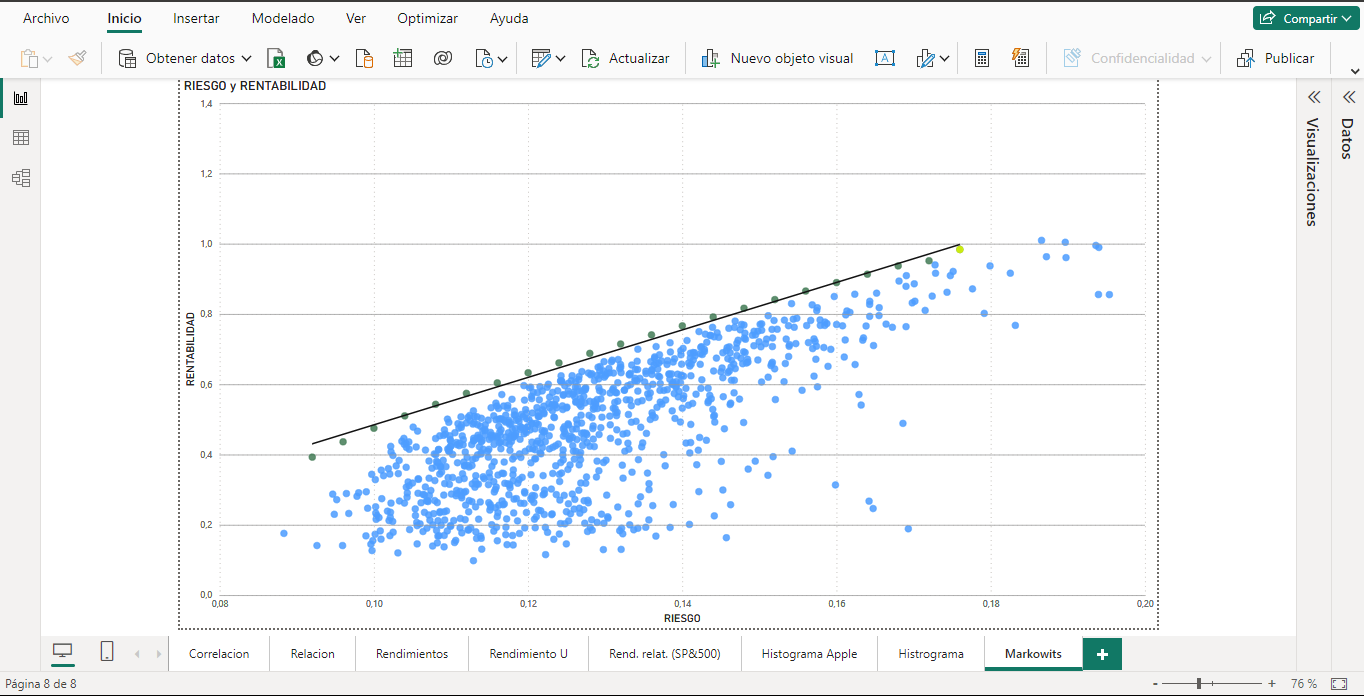

What the dashboard file says about the page in this screenshot:
{"tool":"powerbi","page":{"name":"Markowits","canvas":[1280,720],"ordinal":7},"visuals":[{"type":"scatterChart","fields":{"X":["Portafolios.RIESGO"],"Y":["Portafolios.RENTABILIDAD"]},"box":[0,0,1280.3,720],"z":0},{"type":"scatterChart","fields":{"X":["P  Eficientes.RIESGO"],"Y":["P  Eficientes.RENTABILIDAD"]},"box":[0,0,1280.2,720],"z":1000}]}

Visuals, with their boxes on the page's 1280x720 design canvas (x1, y1, x2, y2). These are canvas units, not pixel positions in the 1364x696 screenshot, which may show the page scaled, cropped or inside an application window:
scatterChart - Portafolios.RIESGO x Portafolios.RENTABILIDAD: <region>0, 0, 1280, 720</region>
scatterChart - P  Eficientes.RIESGO x P  Eficientes.RENTABILIDAD: <region>0, 0, 1280, 720</region>
